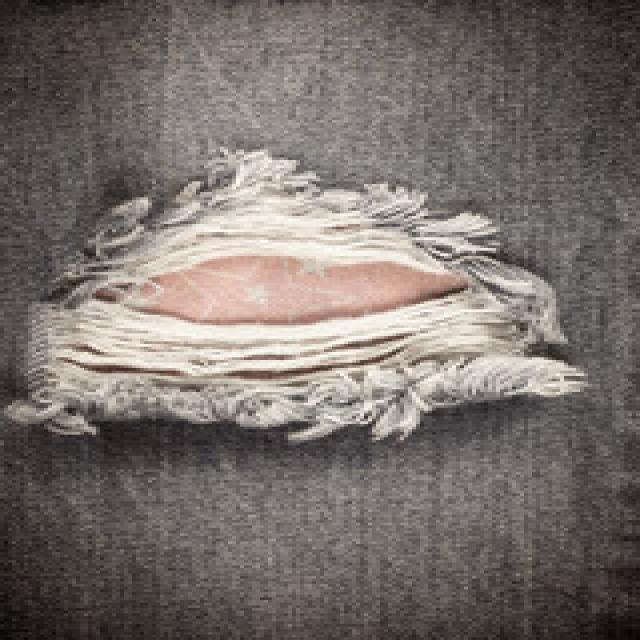Hole: (8, 151, 586, 443)
